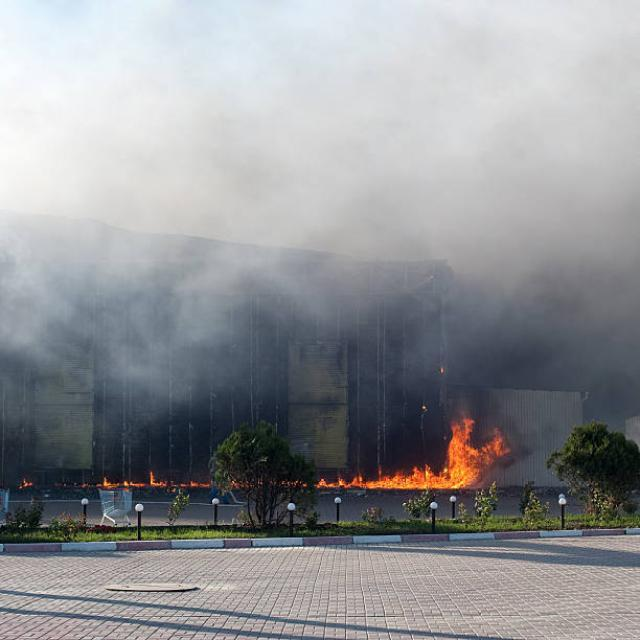Fire: (352, 408, 532, 505), (13, 463, 248, 507)
Smoke: (15, 19, 640, 462)
